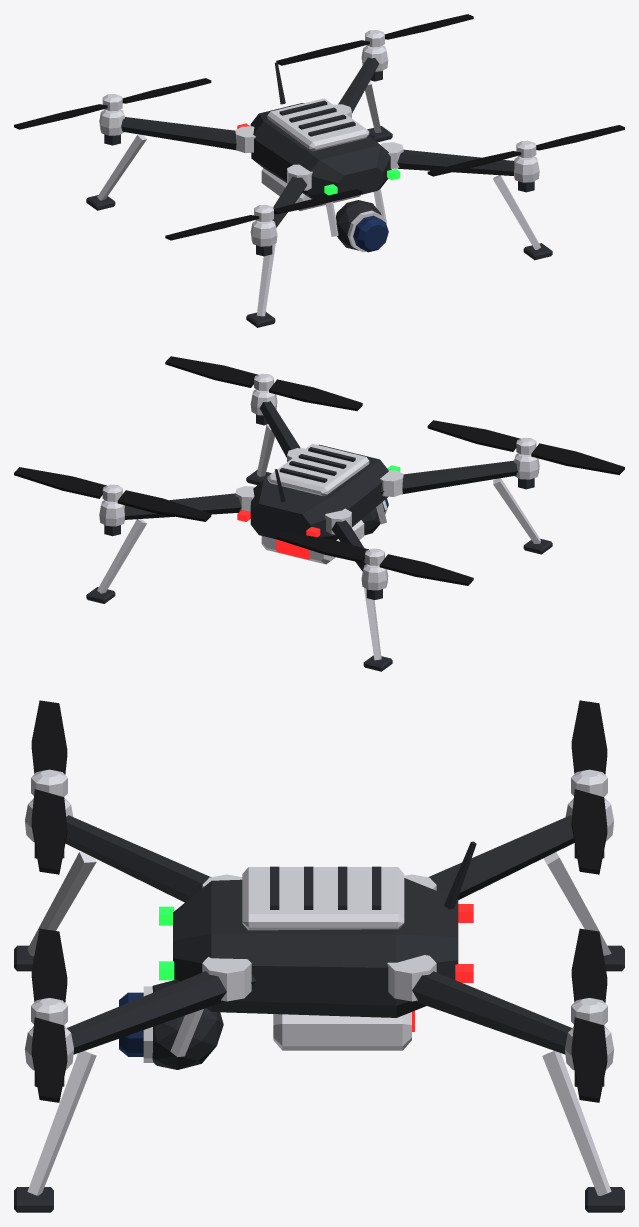
Rendered from drone.glb.
The picture shows the model from 3 angles, top to bottom: view 1: azimuth 30°, elevation 25°; view 2: azimuth 150°, elevation 25°; view 3: azimuth 270°, elevation 25°; orthographic projection. The views are drawn at different scales.
Visible parts, largest first — view 1: drone_body, rotor_rr, rotor_fl, rotor_fr, rotor_rl; view 2: drone_body, rotor_rl, rotor_rr, rotor_fl, rotor_fr; view 3: drone_body, rotor_fr, rotor_rr, rotor_fl, rotor_rl.
Part boxes in pixels (<box>): drone_body: <box>86,45,552,327</box>; rotor_rr: <box>14,78,211,129</box>; rotor_fl: <box>427,125,624,176</box>; rotor_fr: <box>165,189,362,240</box>; rotor_rl: <box>276,14,473,65</box>; drone_body: <box>86,389,552,671</box>; rotor_rl: <box>14,467,211,521</box>; rotor_rr: <box>276,531,473,585</box>; rotor_fl: <box>165,356,362,410</box>; rotor_fr: <box>427,420,624,475</box>; drone_body: <box>14,798,624,1212</box>; rotor_fr: <box>31,700,67,874</box>; rotor_rr: <box>571,700,607,874</box>; rotor_fl: <box>31,928,67,1102</box>; rotor_rl: <box>571,928,607,1102</box>.
Size of the model in its own units: 0.606 by 0.1737 by 0.396.
